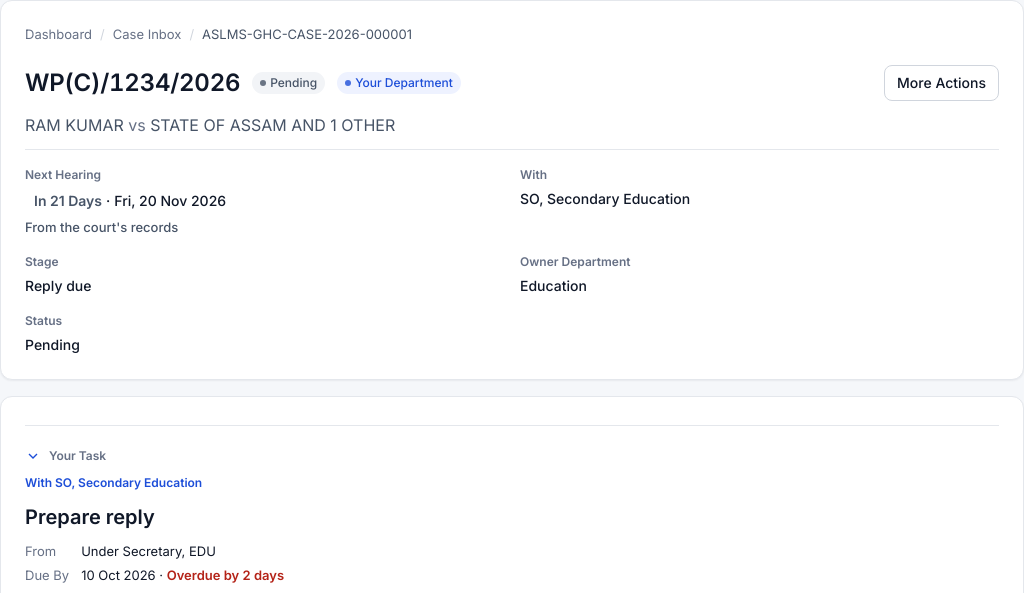
it: the frame › Add note, Upload and Set stage are the rail's Quick actions only; Enter next date sits in More actions (case-workspace-admin, decisions 9 and 12)
Expected: the button "Add Note" is not shown
Click the button "More Actions". click: (942, 82)
box: [884,64,999,100]
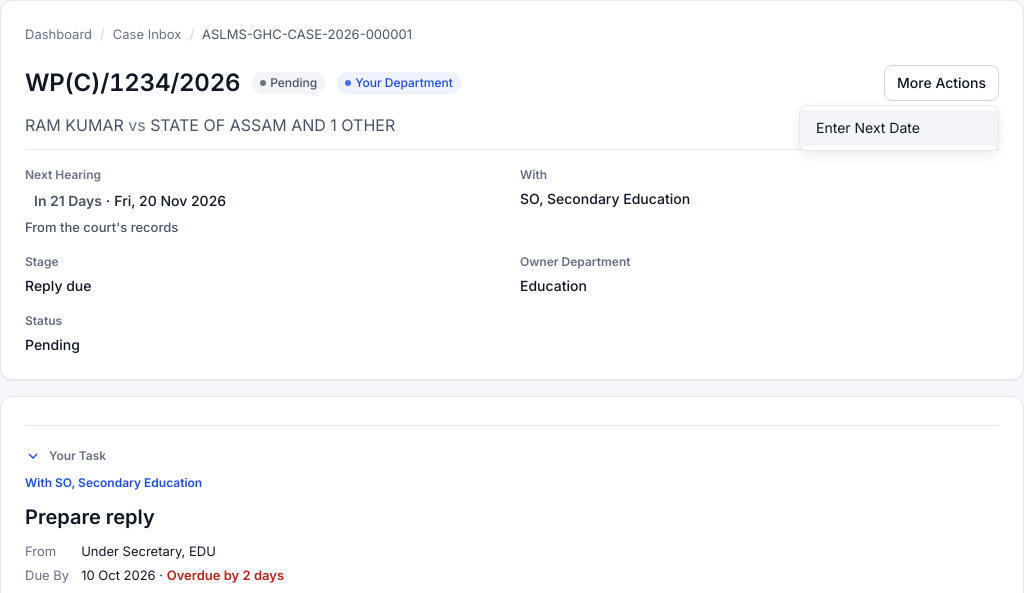
Result: the menu items read "Enter Next Date", in this order at [800,110,998,146]
Press Escape
(page scrolled)
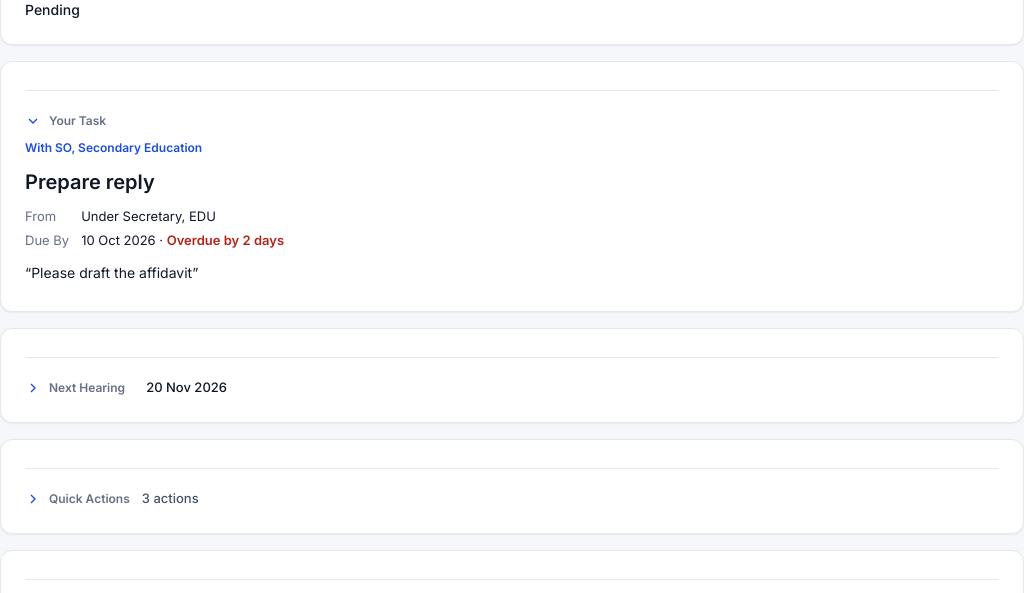
Click the button "Quick Actions 3 actions". click: (112, 499)
box: [25,481,199,517]
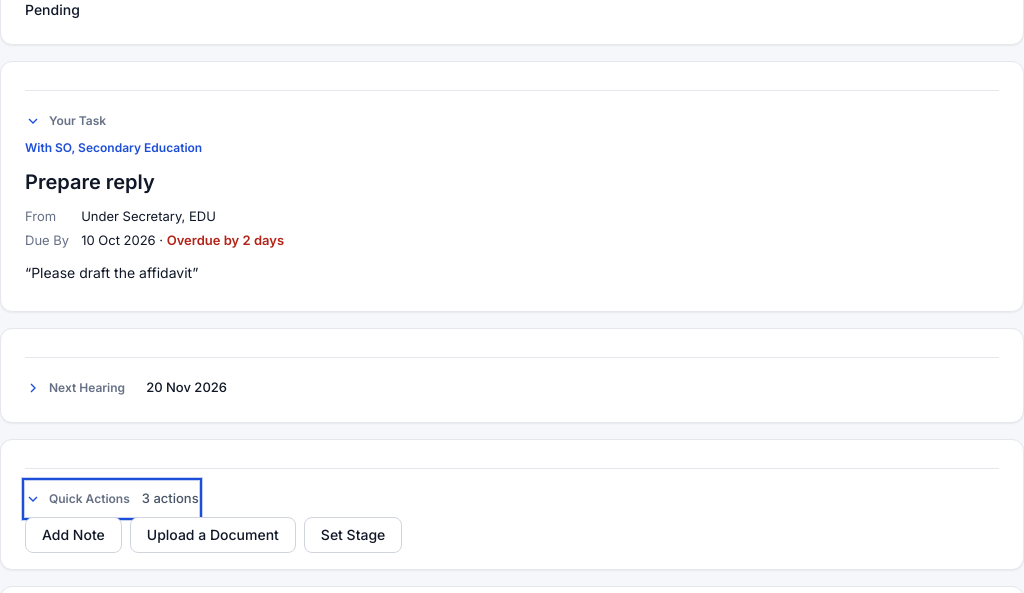
Click the button "Add Note". click: (73, 535)
box: [25,517,122,553]
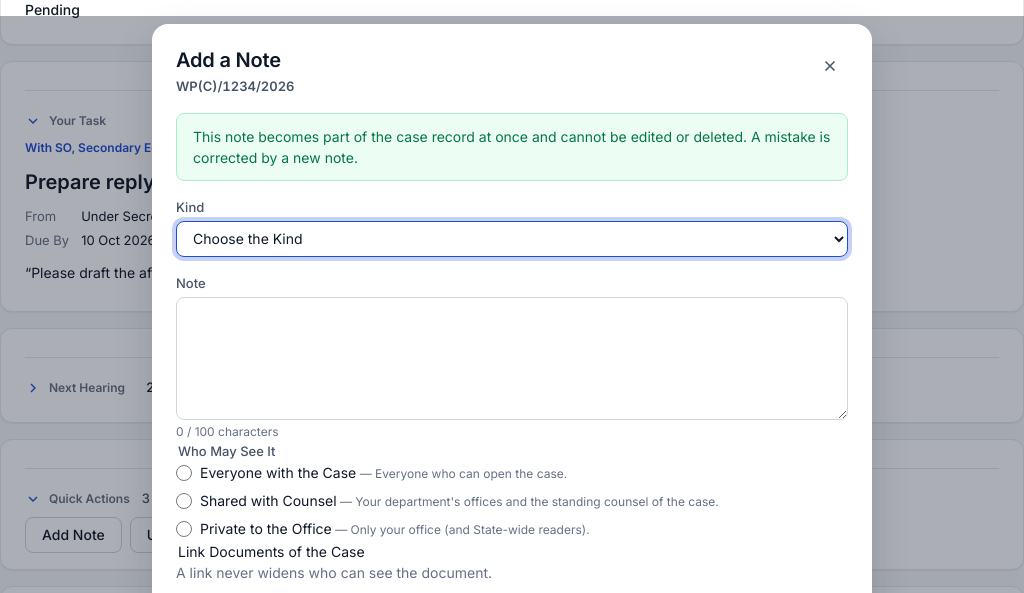
Result: the text "WP(C)/1234/2026" is shown at [176,78,294,94]
Result: the text "becomes part of the case record at once" is shown at [193,128,830,166]
